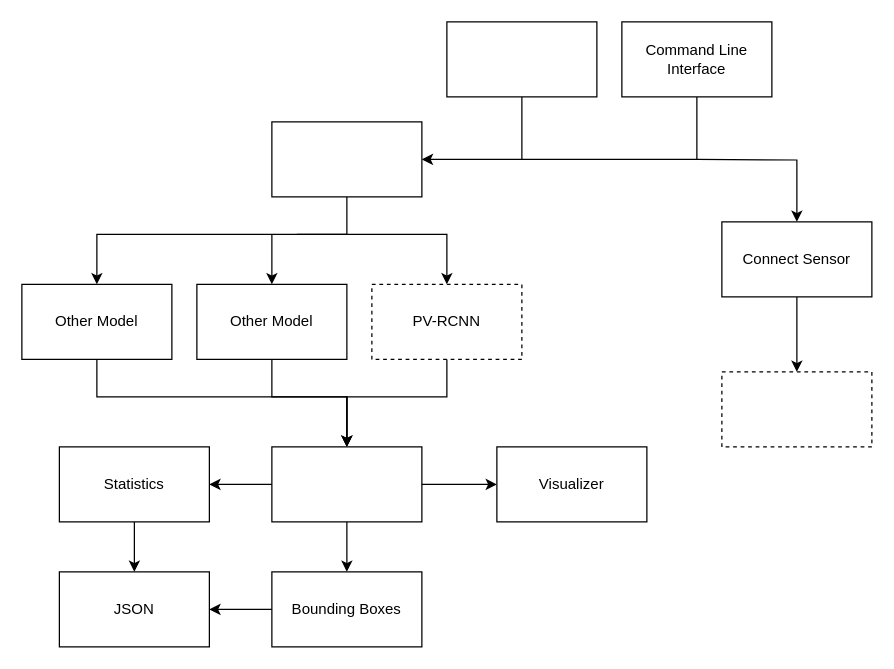
Some shapes in this 894 by 669 pixel diagram are drawn without their labels. Here are the shapes that lost their labels. From the top down, the centre of each, then its label:
point (521, 59): Django API
point (346, 159): Input (.npy)
point (796, 409): Ouster SDK
point (346, 484): Output
